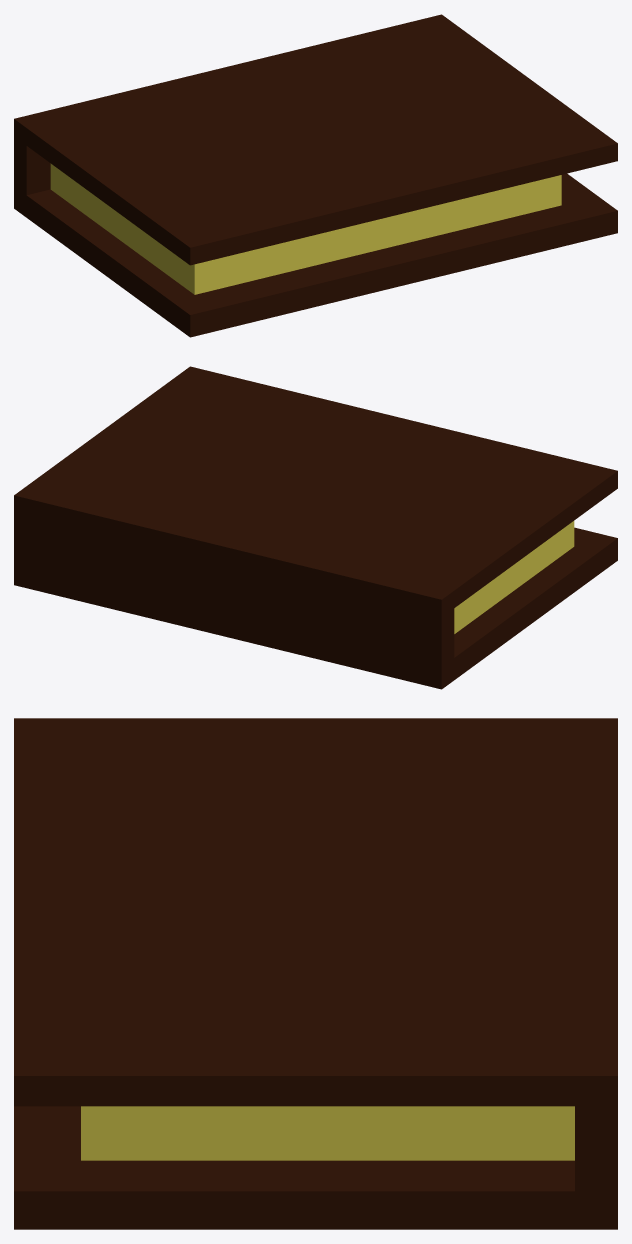
File: Book.FBX
3 views of the same model, one above another, from view 1: azimuth 30°, elevation 25°; view 2: azimuth 150°, elevation 25°; view 3: azimuth 270°, elevation 25° (orthographic). The views are drawn at different scales.
Visible parts, largest first — view 1: Box001; view 2: Box001; view 3: Box001.
Part boxes in pixels (<box>): Box001: <box>14,14,617,337</box>; Box001: <box>14,366,617,689</box>; Box001: <box>14,718,617,1229</box>.
Bounding box in the file's own units: 17.92 × 3.59 × 12.79.
